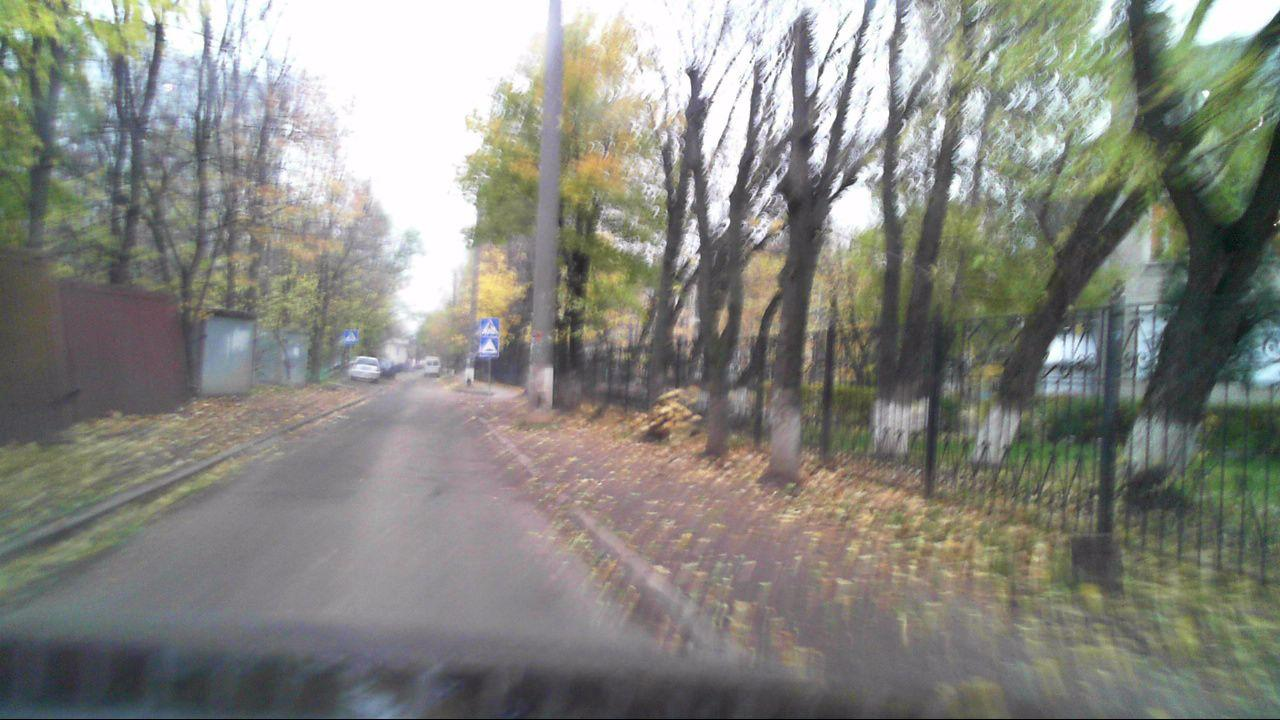5_19_1: (480, 318, 500, 337)
5_19_2: (343, 328, 357, 344)
5_20: (479, 338, 499, 357)
